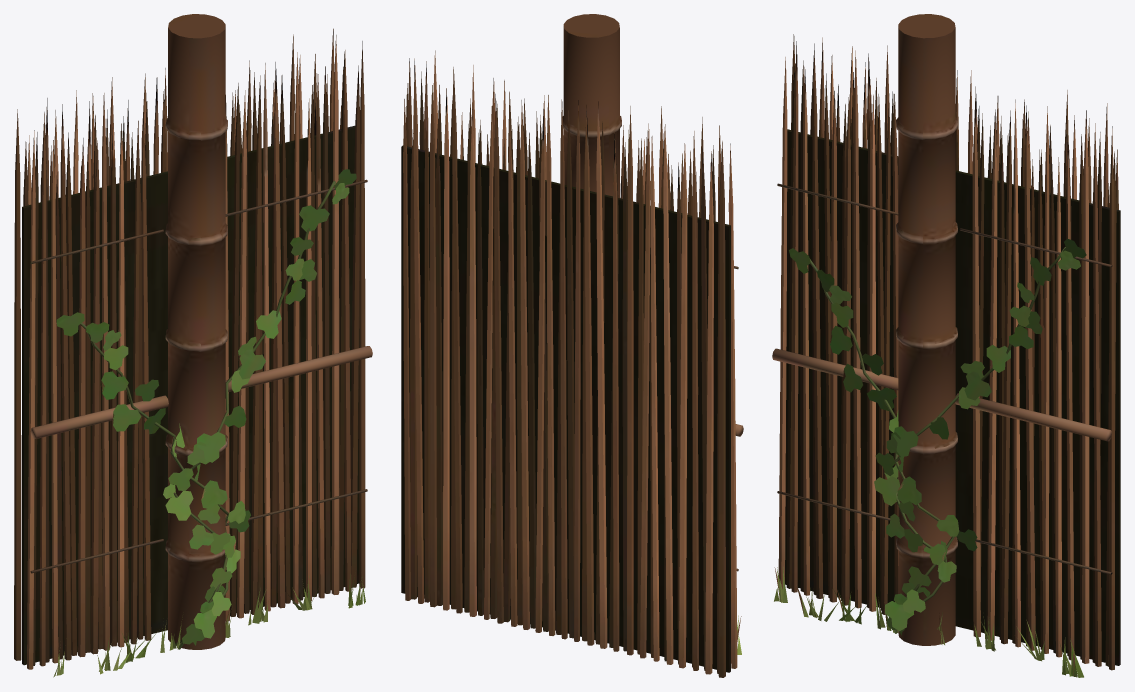
Rendered from fence_reed_ivy_hd.glb.
3 renders of one model, left to right at view 1: azimuth 30°, elevation 25°; view 2: azimuth 150°, elevation 25°; view 3: azimuth 330°, elevation 25°, orthographic. The views are drawn at different scales.
Visible parts, largest first — view 1: fence_reed_ivy; view 2: fence_reed_ivy; view 3: fence_reed_ivy.
Boxes of the visible parts, box(x1,y1,x2,y2) form: fence_reed_ivy: box(14, 14, 372, 677); fence_reed_ivy: box(401, 14, 743, 677); fence_reed_ivy: box(772, 14, 1120, 677).
Size of the model in its own units: 1.01 by 1.74 by 0.2361.
Materials: 1 (1 with a texture image).
